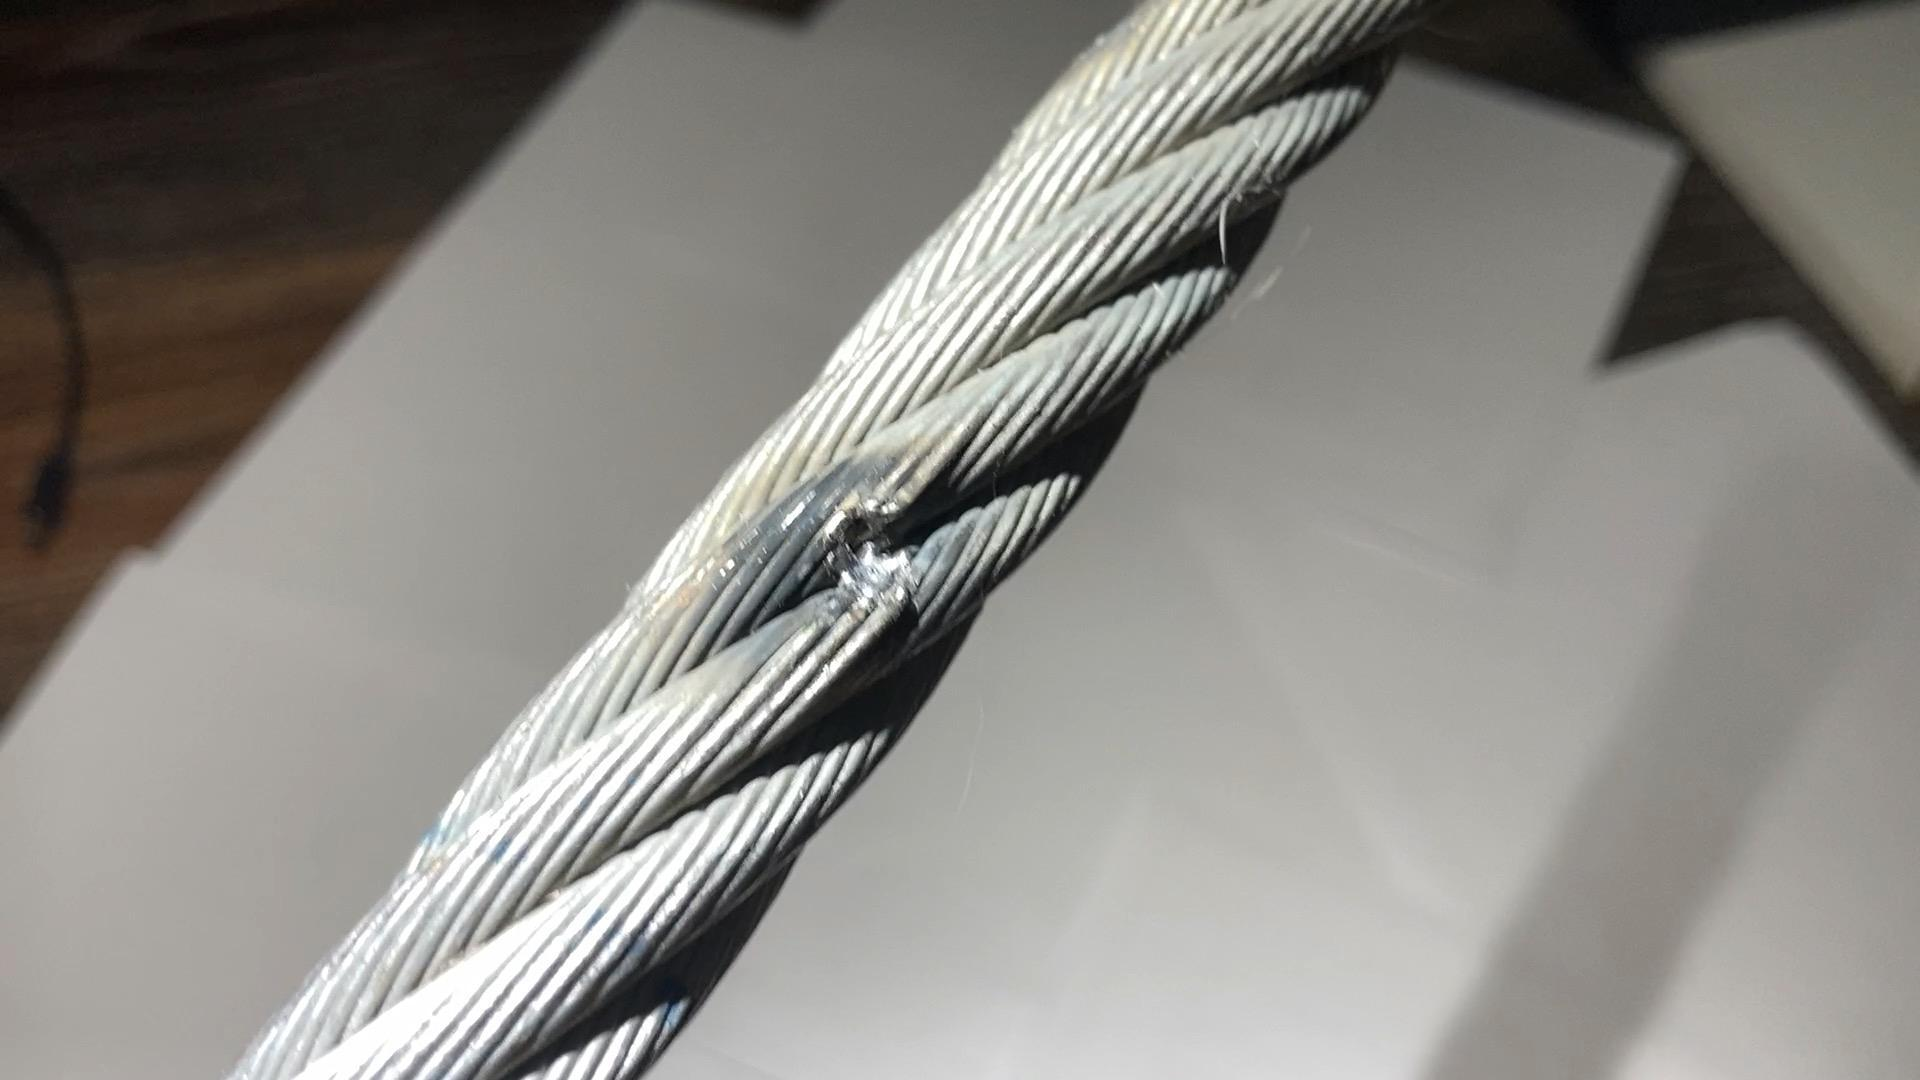thunderbolt: (811, 469, 947, 613)
